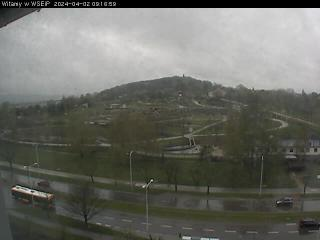bus: (10, 184, 55, 209)
car: (299, 217, 320, 229), (276, 196, 294, 208), (37, 179, 50, 188)
